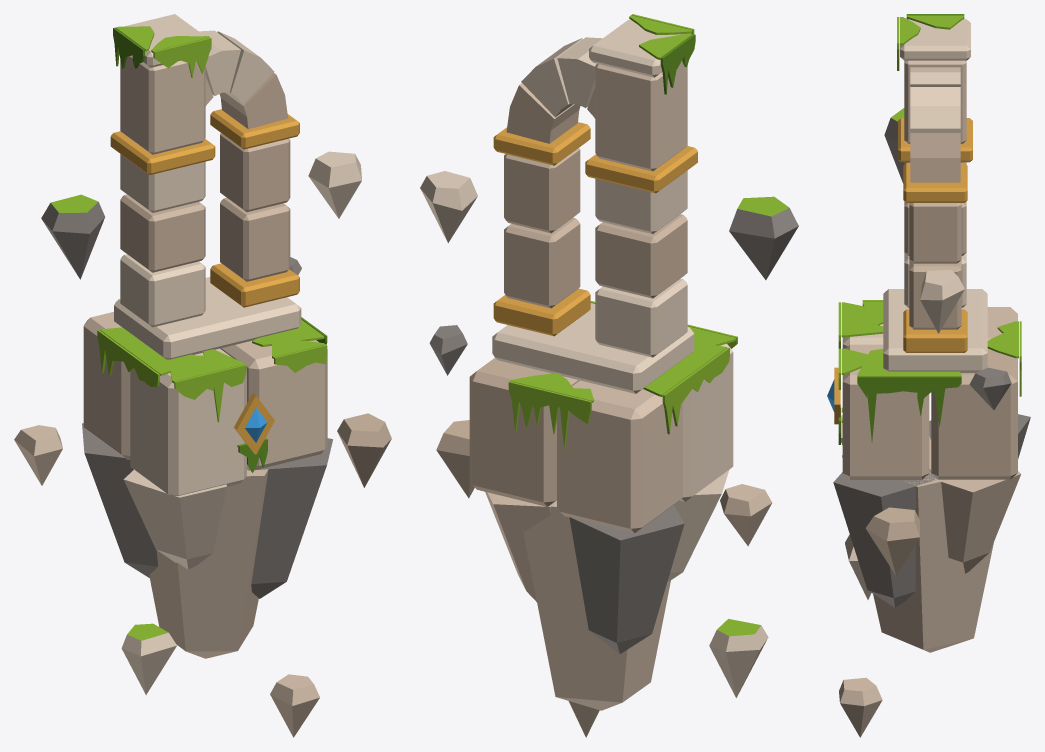
File: Pilar_Arco.fbx
3 views of the same model, side by side, from view 1: azimuth 30°, elevation 25°; view 2: azimuth 150°, elevation 25°; view 3: azimuth 270°, elevation 25° (orthographic). The views are drawn at different scales.
Visible parts, largest first — view 1: Pilar_Arco; view 2: Pilar_Arco; view 3: Pilar_Arco.
Part boxes in pixels (x1,y1,x2,y2): Pilar_Arco: [14, 14, 391, 737]; Pilar_Arco: [420, 14, 798, 737]; Pilar_Arco: [827, 14, 1030, 737].
Bounding box in the file's own units: 3.49 × 7.04 × 1.96.
